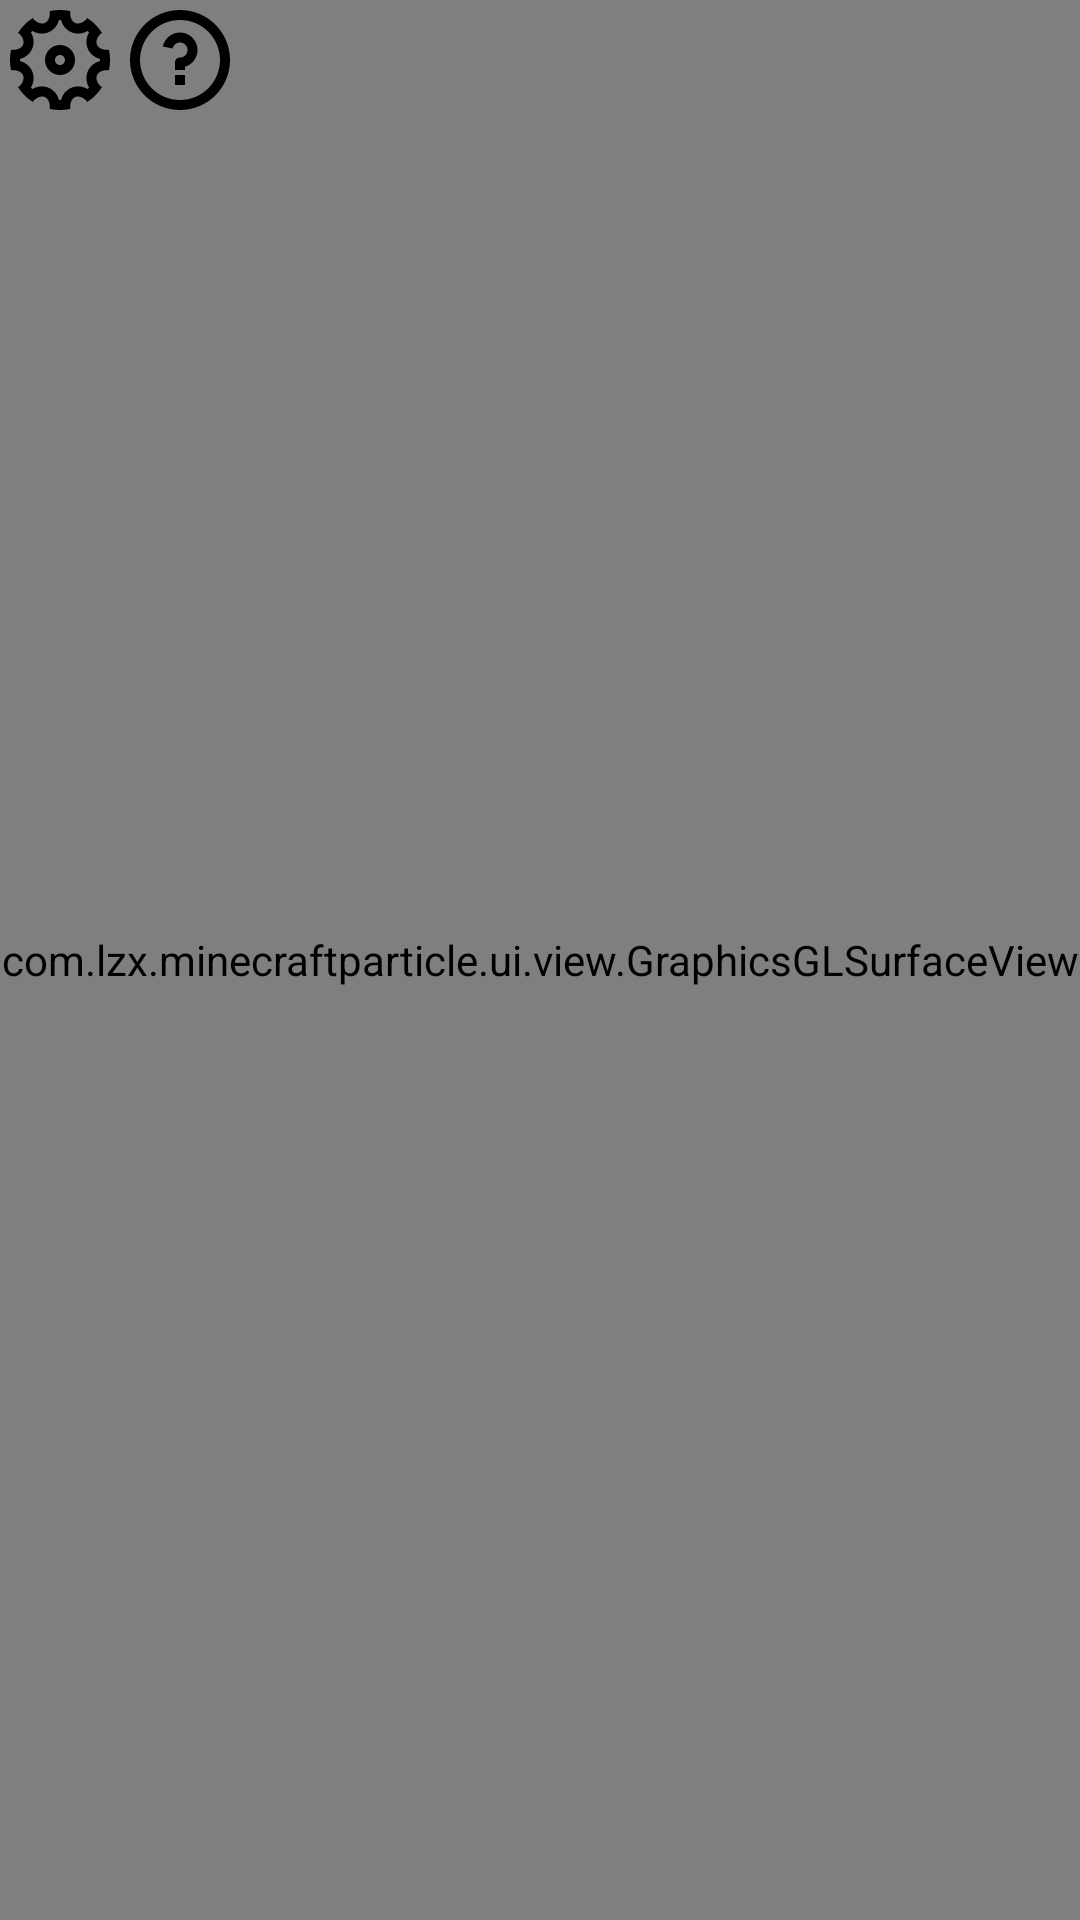

Icons on this 1080×1920 Android screen, each with the point to tap as point (x, y):
question: point (180, 60)
